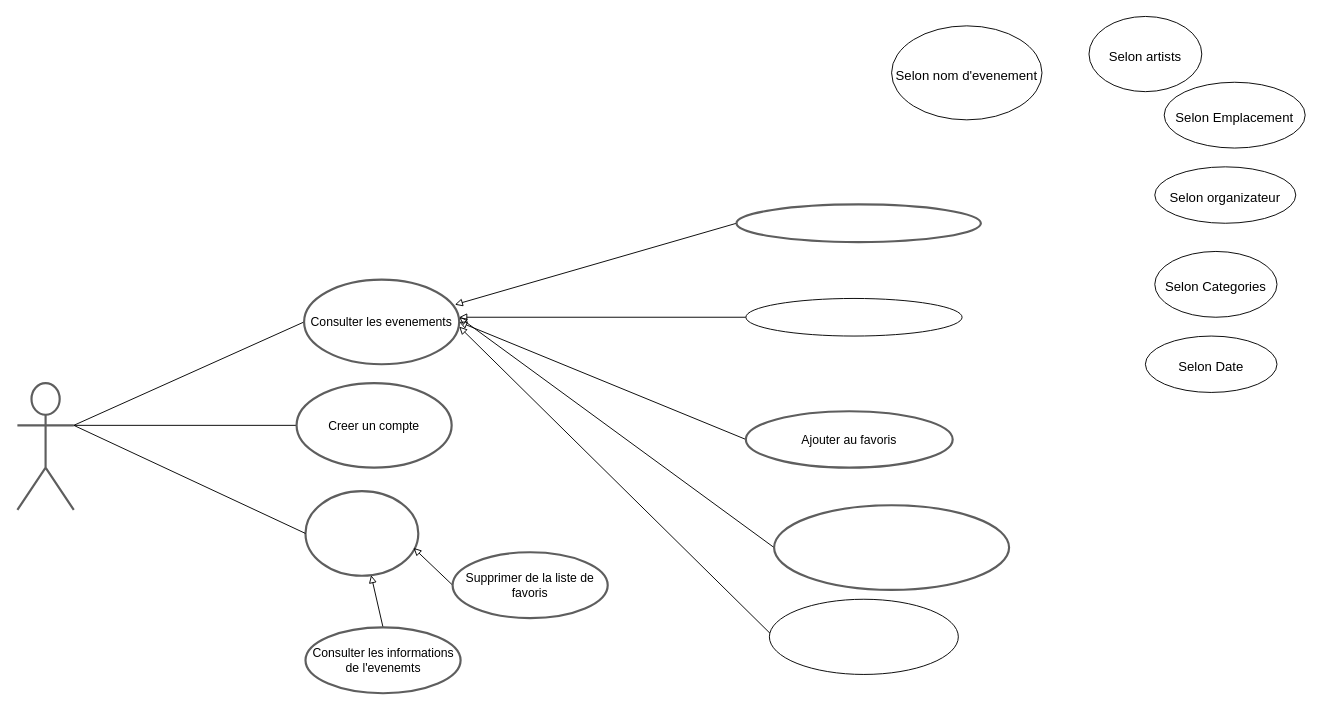
This 1322x711 diagram has some shape labels left out. The shapes that lost their labels are listed below. From the top down, each one's centre as x and y in pixels, then its label:
[858,223]: Rechercher un evenement
[853,317]: Consulter profil de l'organisateur
[45,446]: Utilisateur
[361,533]: Gérer Listes de Favoris
[891,547]: Filterr les evenements selon Prix d'evenement /date d'evenement
[863,636]: Partager un evenement
